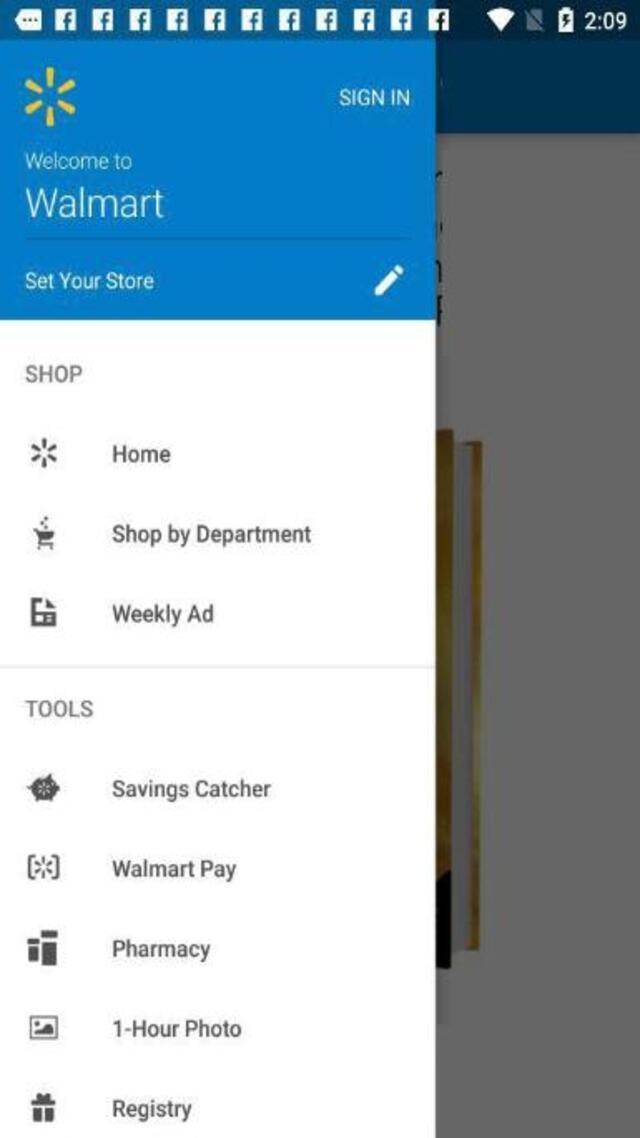Icon: (373, 264, 405, 298), (29, 1091, 56, 1121), (29, 596, 56, 626), (32, 514, 54, 550), (28, 1014, 58, 1038)
Image: (24, 68, 76, 128), (27, 928, 59, 964), (26, 771, 60, 801), (32, 436, 58, 466), (27, 854, 59, 878)
Text: (112, 521, 310, 546), (25, 184, 165, 218), (111, 777, 271, 802), (112, 857, 237, 882), (25, 271, 155, 291), (114, 1018, 242, 1038), (112, 601, 214, 626), (112, 937, 210, 962), (24, 150, 132, 170), (112, 1097, 194, 1122), (23, 698, 93, 718), (338, 89, 409, 107), (24, 364, 82, 382), (113, 444, 170, 462)
